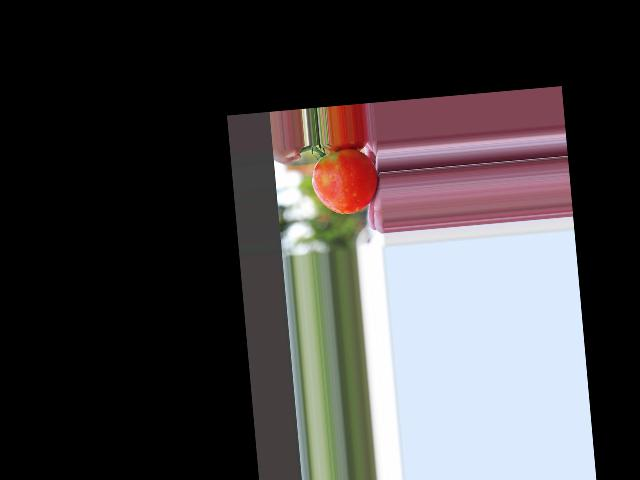tomato: (309, 147, 380, 216)
